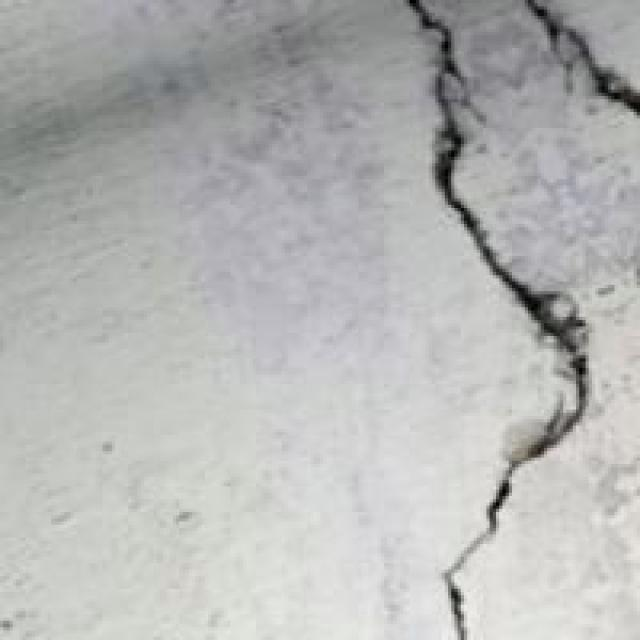SurfaceCrack: (388, 8, 598, 640)
